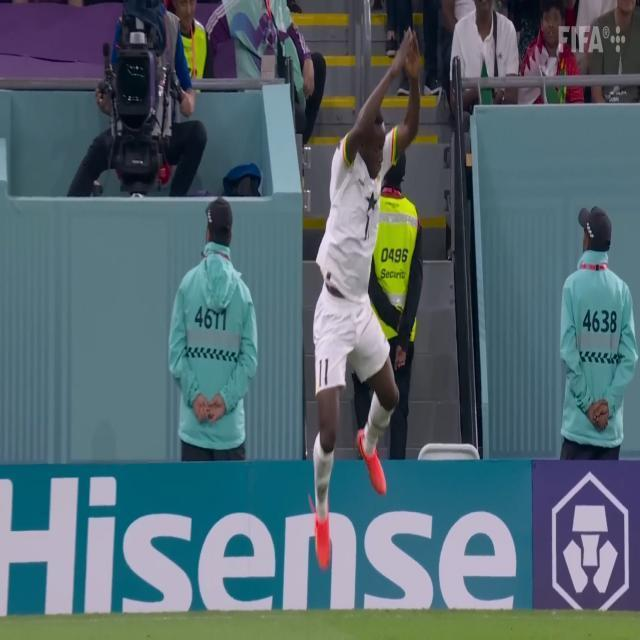player: (313, 11, 425, 574)
